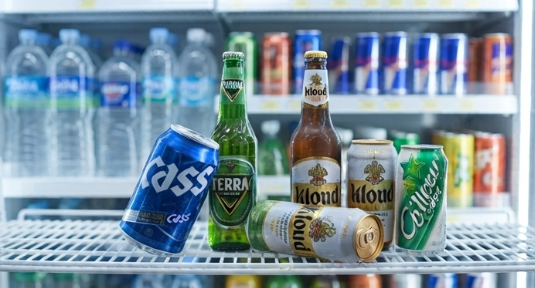beer-bottle: (207, 51, 258, 251), (290, 50, 341, 220)
beer-can: (116, 122, 221, 255), (245, 199, 392, 262), (344, 138, 400, 251)
